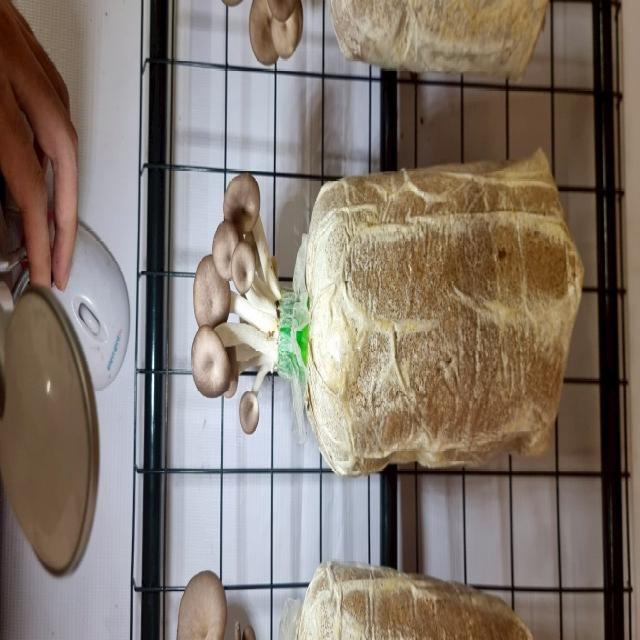normal: (239, 345, 302, 448), (183, 256, 236, 348), (186, 333, 241, 400), (221, 172, 263, 254), (211, 215, 250, 296), (232, 248, 259, 317)
